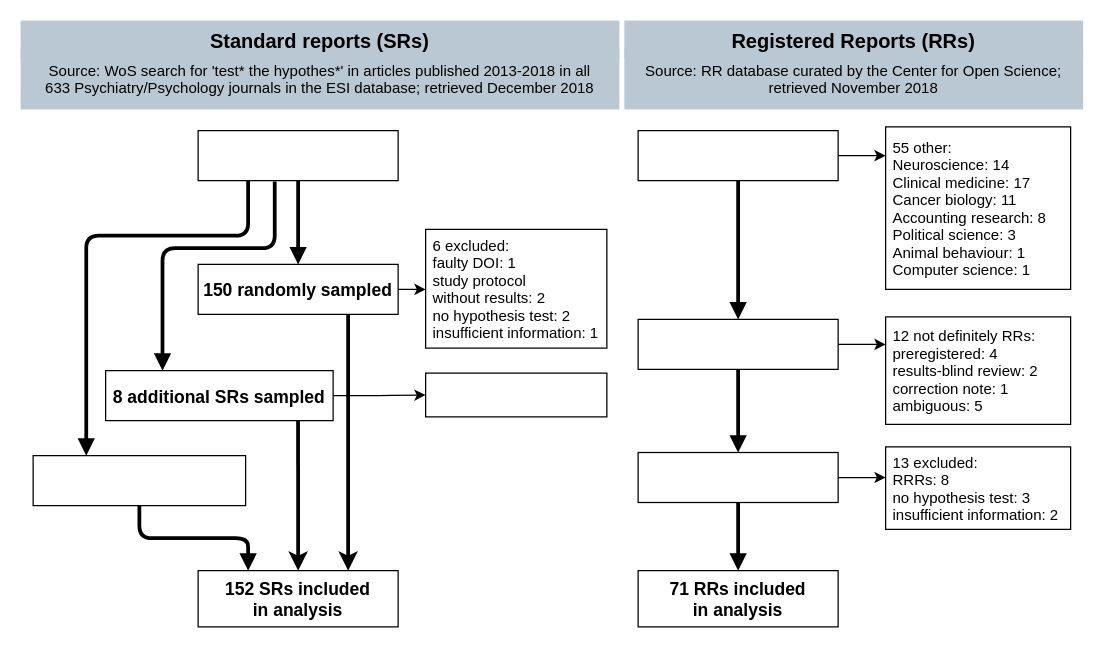
The diagram is 1104 pixels wide and 648 high, and some of its shapes have lost their labels. The centre of each missing label's shape, as x and y in pixels:
1 additional SR sampled: (139,480)
1 excluded: no hypothesis test: (515,394)
151 database entries: (737,155)
1919 search results: (297,155)
84 certain RRs: (737,476)
96 Psychology: (737,343)
